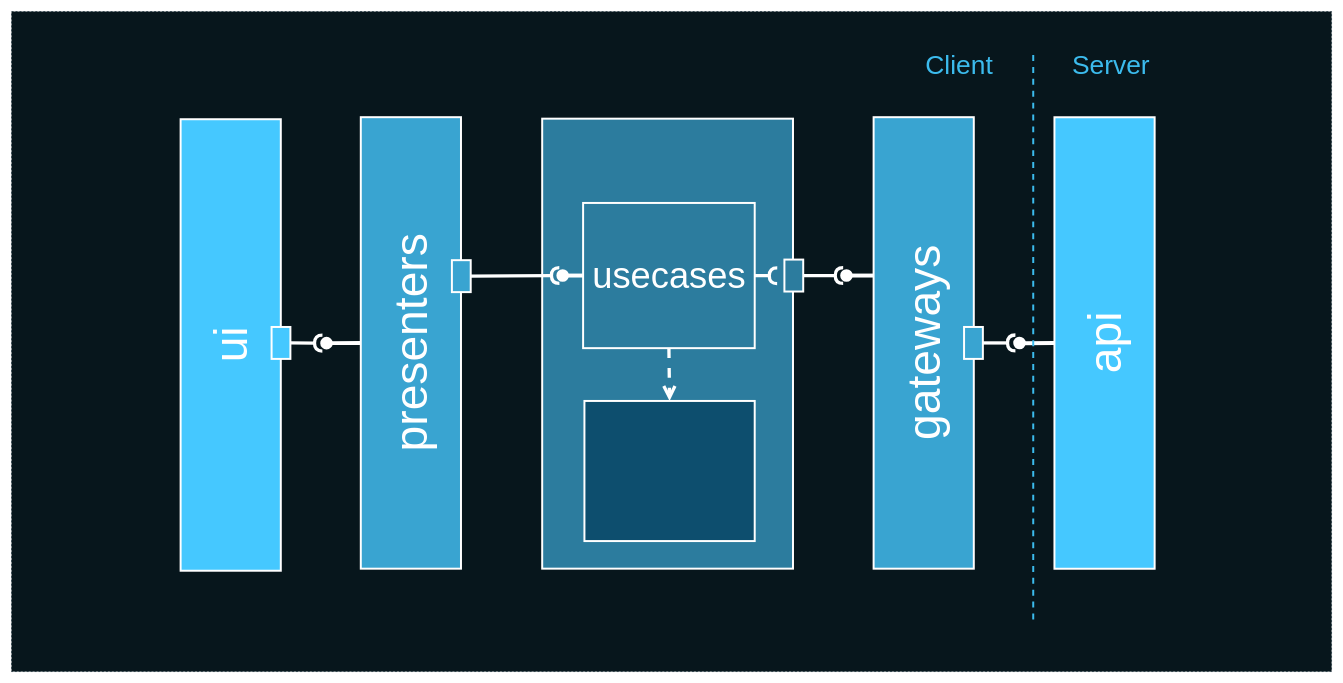
Image size: 1343x683. Some labels were removed from this diagram. Each missing label, with the box of its shape:
domain: (541, 117, 794, 569)
entities: (583, 400, 755, 542)
